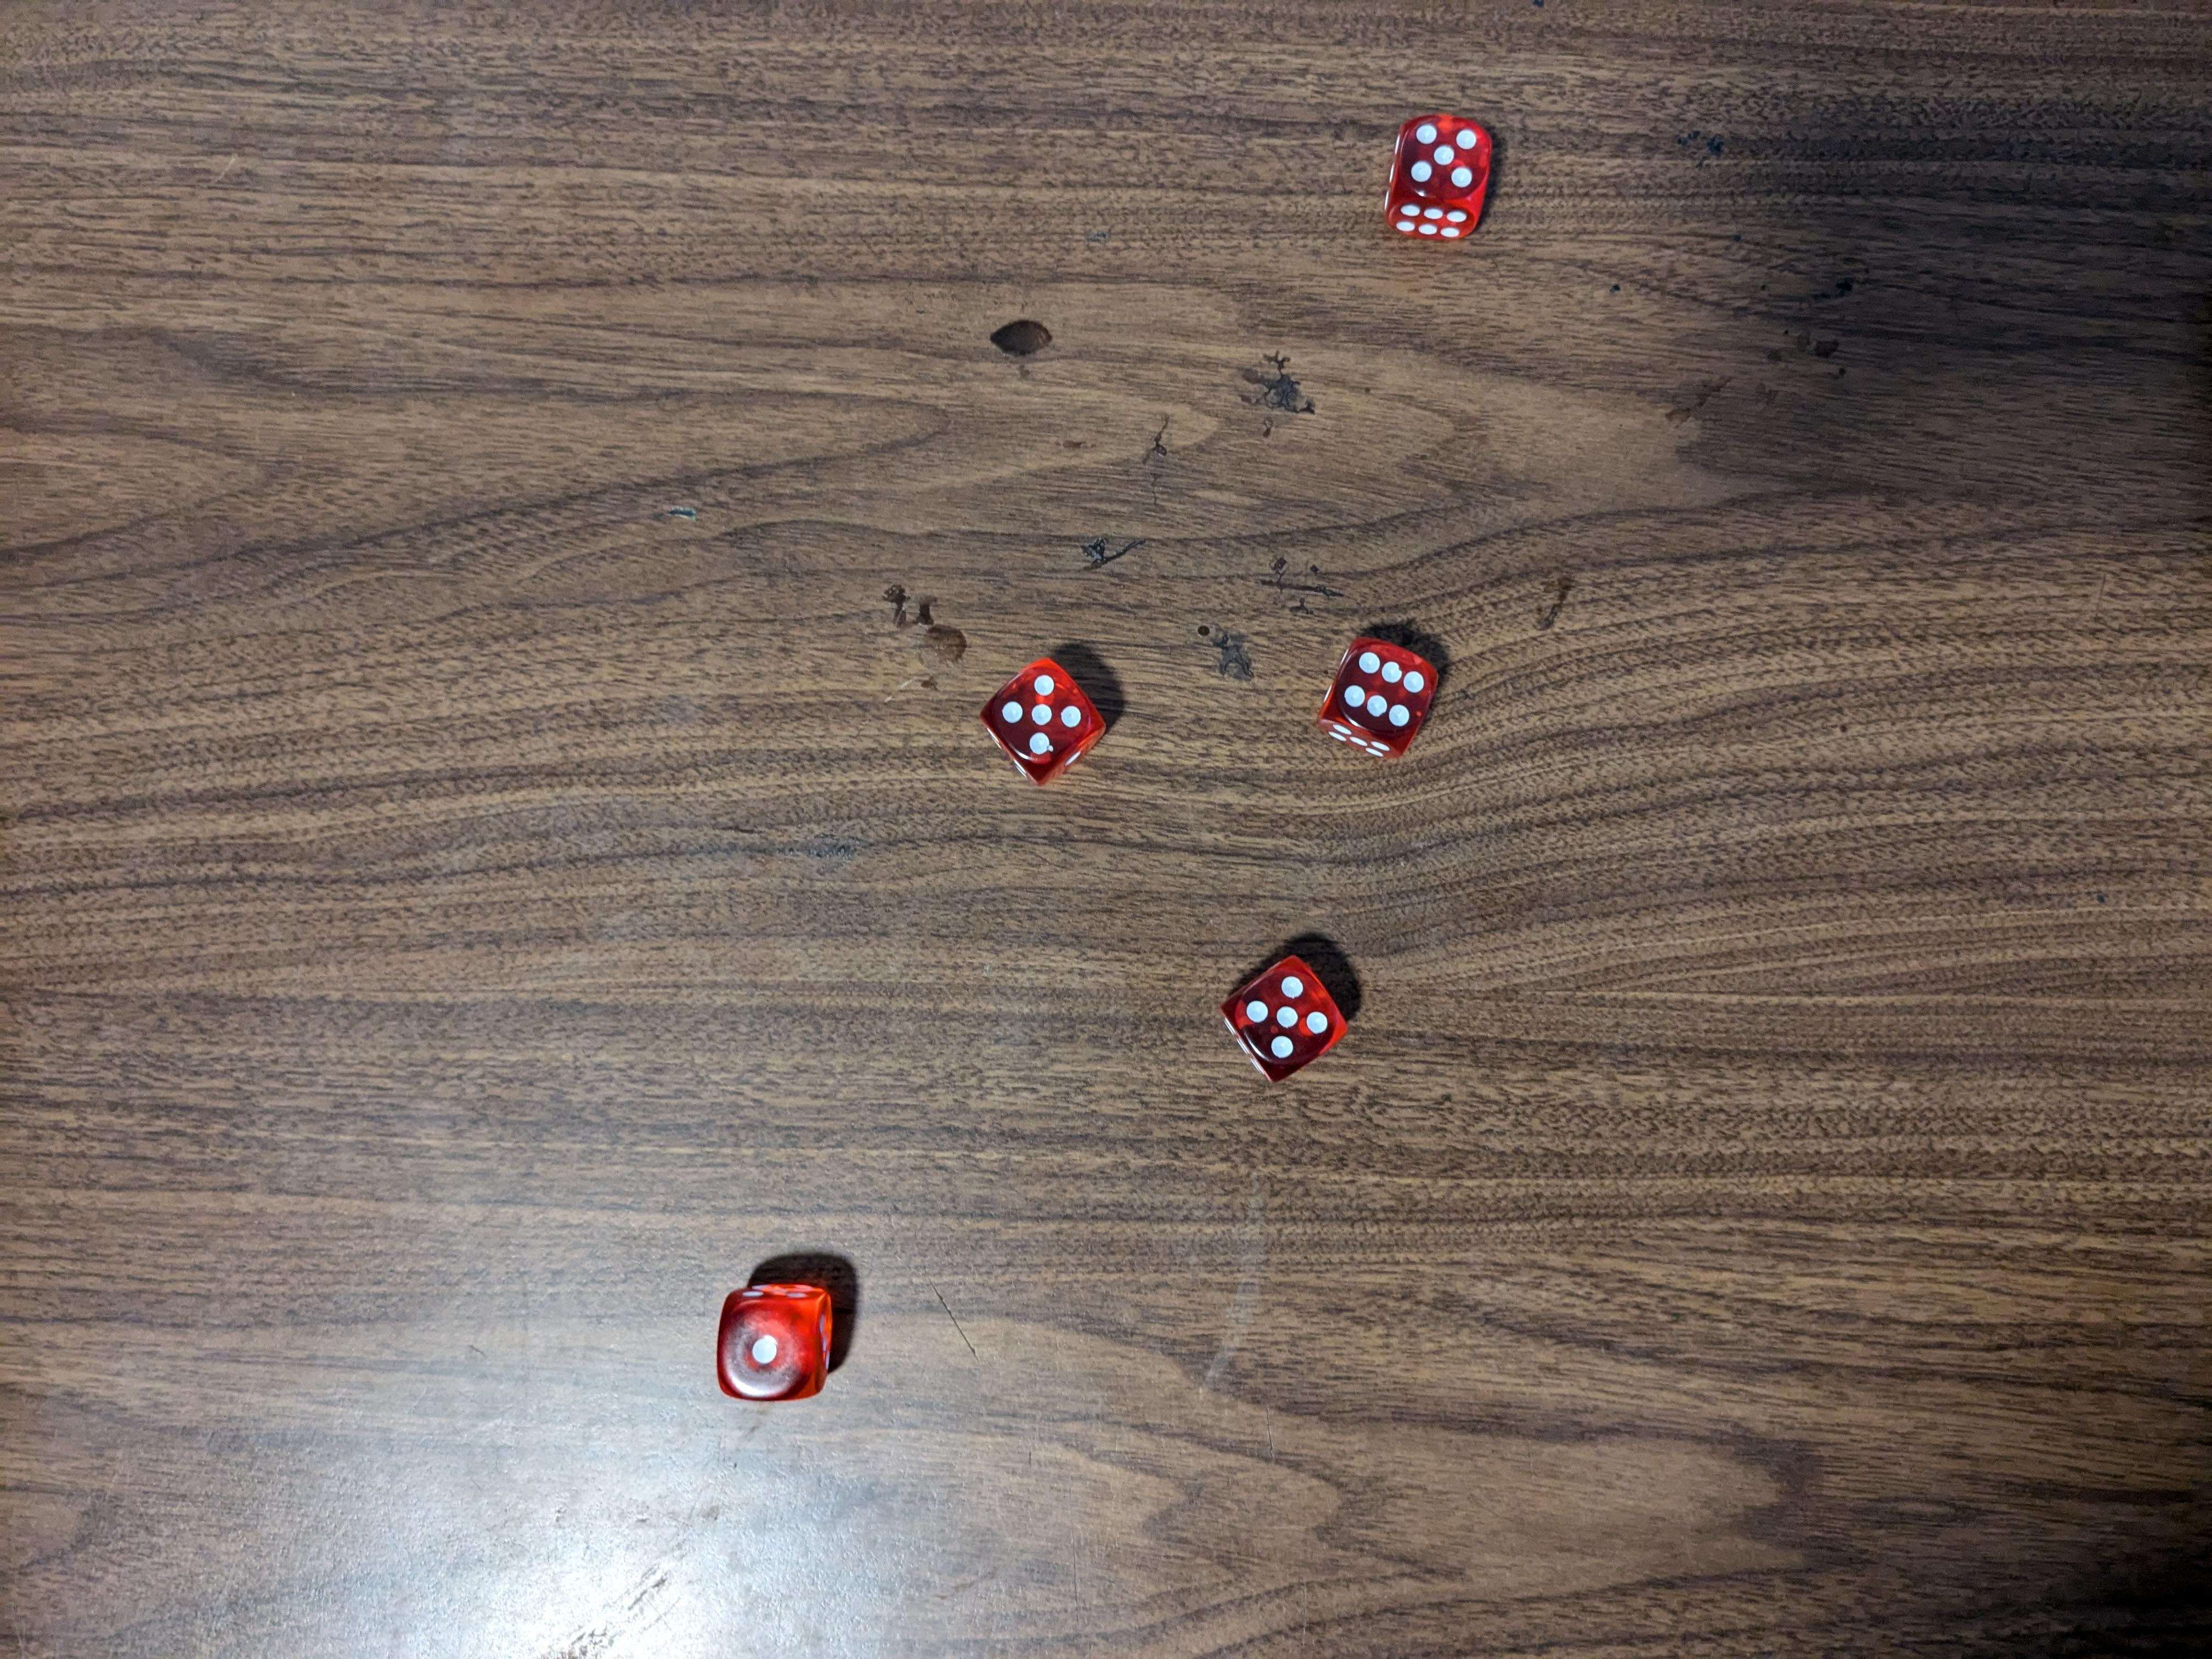five: (981, 655, 1111, 786), (1223, 948, 1348, 1080), (1385, 108, 1496, 239)
one: (714, 1281, 833, 1398)
six: (1317, 633, 1440, 763)
